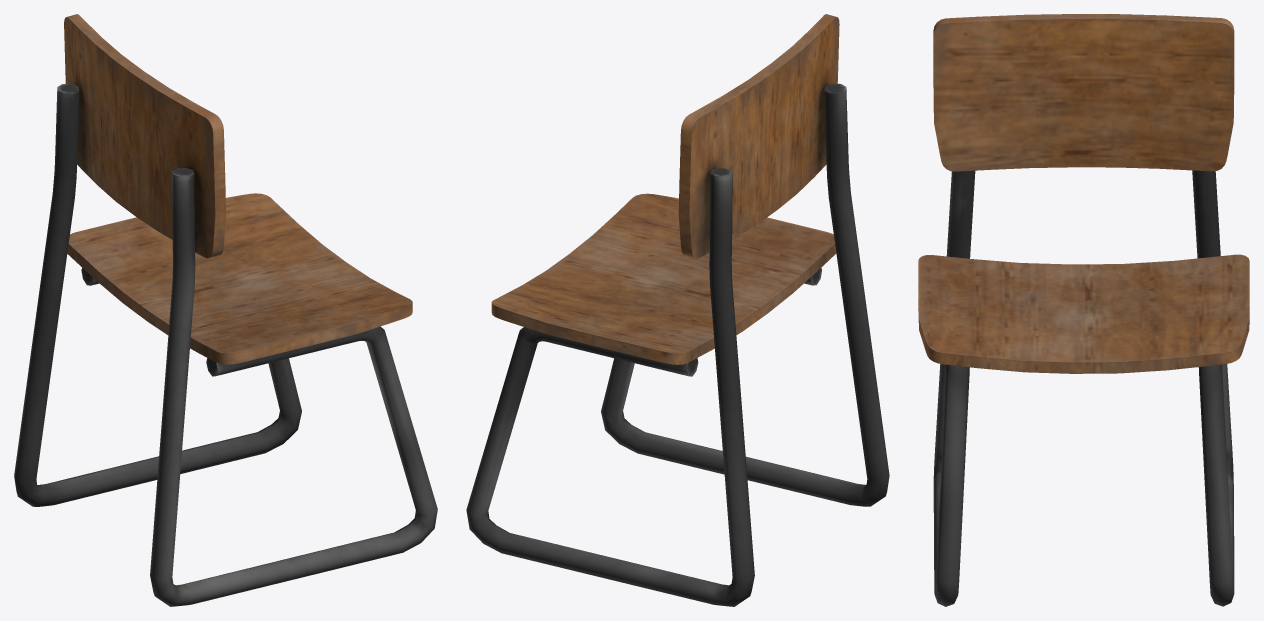
The model's file is chair1.fbx.
The picture shows the model from 3 angles, left to right: view 1: azimuth 30°, elevation 25°; view 2: azimuth 150°, elevation 25°; view 3: azimuth 270°, elevation 25°; orthographic projection.
Parts seen in each view (by area): view 1: pCube815.003; view 2: pCube815.003; view 3: pCube815.003.
Boxes of the visible parts, <box> form: pCube815.003: <box>14,14,437,606</box>; pCube815.003: <box>466,14,889,606</box>; pCube815.003: <box>918,14,1249,606</box>.
Bounding box in the file's own units: 0.6229 × 1 × 0.6165.
Materials: 1 (1 with a texture image).
